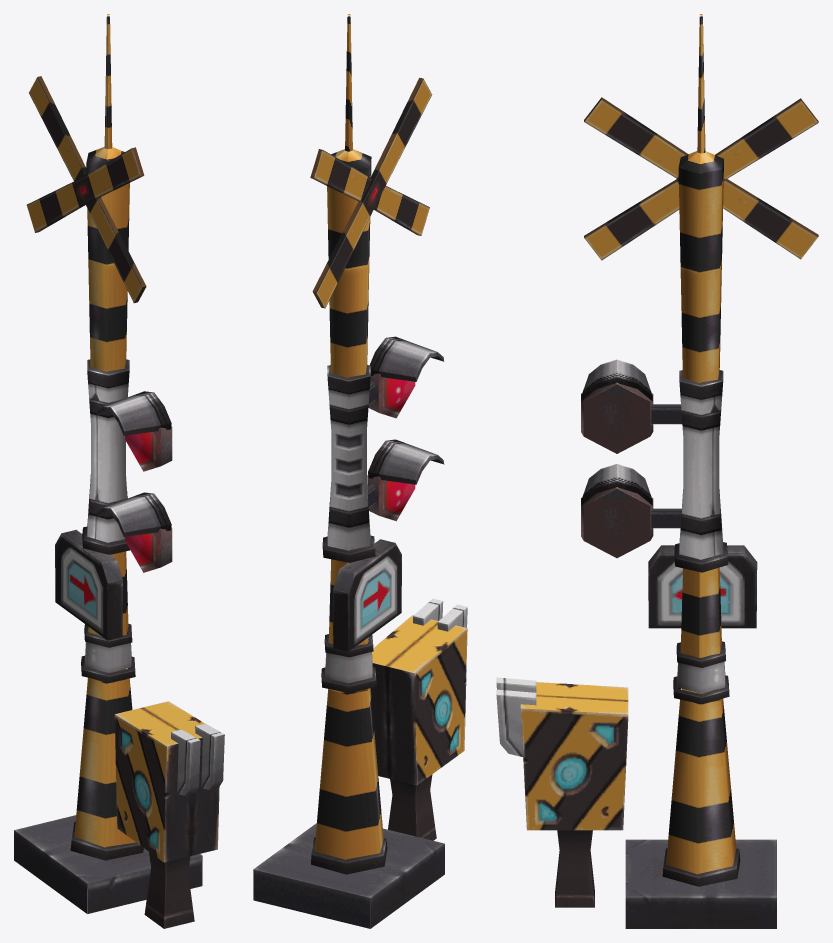
Rendered from hbxz_road005_03.FBX.
The picture shows the model from 3 angles, left to right: view 1: azimuth 30°, elevation 25°; view 2: azimuth 150°, elevation 25°; view 3: azimuth 270°, elevation 25°; orthographic projection. The views are drawn at different scales.
Visible parts, largest first — view 1: hbxz_road005_03; view 2: hbxz_road005_03; view 3: hbxz_road005_03.
Boxes of the visible parts, x1,y1,x2,y2 form: hbxz_road005_03: (14, 14, 224, 928); hbxz_road005_03: (253, 14, 467, 928); hbxz_road005_03: (496, 14, 818, 928).
Size of the model in its own units: 45.35 by 322 by 106.
2 materials, 2 textured.
